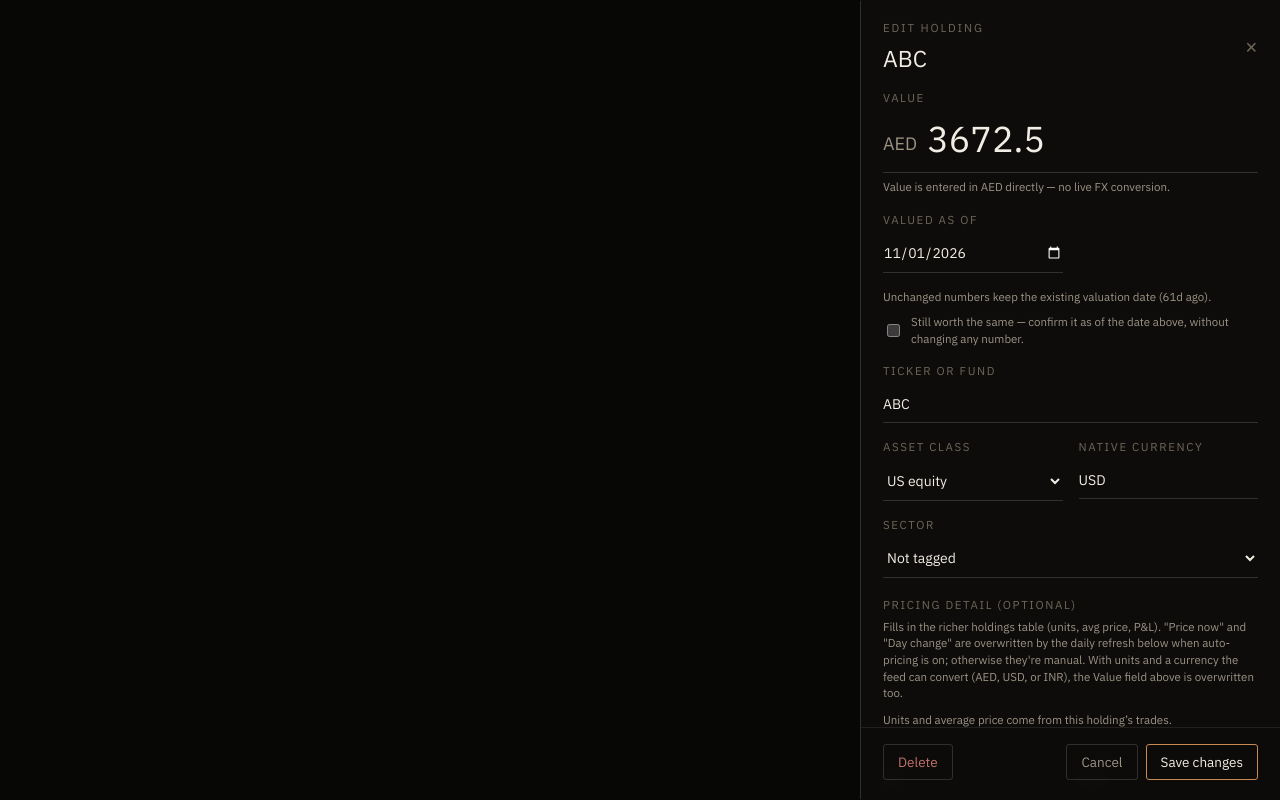
it: a traded holding › refuses a save from before a trade, writes nothing, and asks for fresh data
The width and height of the screenshot is (1280, 800).
Step 1. Replace the text in the field with placeholder "e.g. VWRA" below "Ticker or fund" with "ABC renamed" → (1070, 404), box [883,386,1258,423]
(page scrolled)
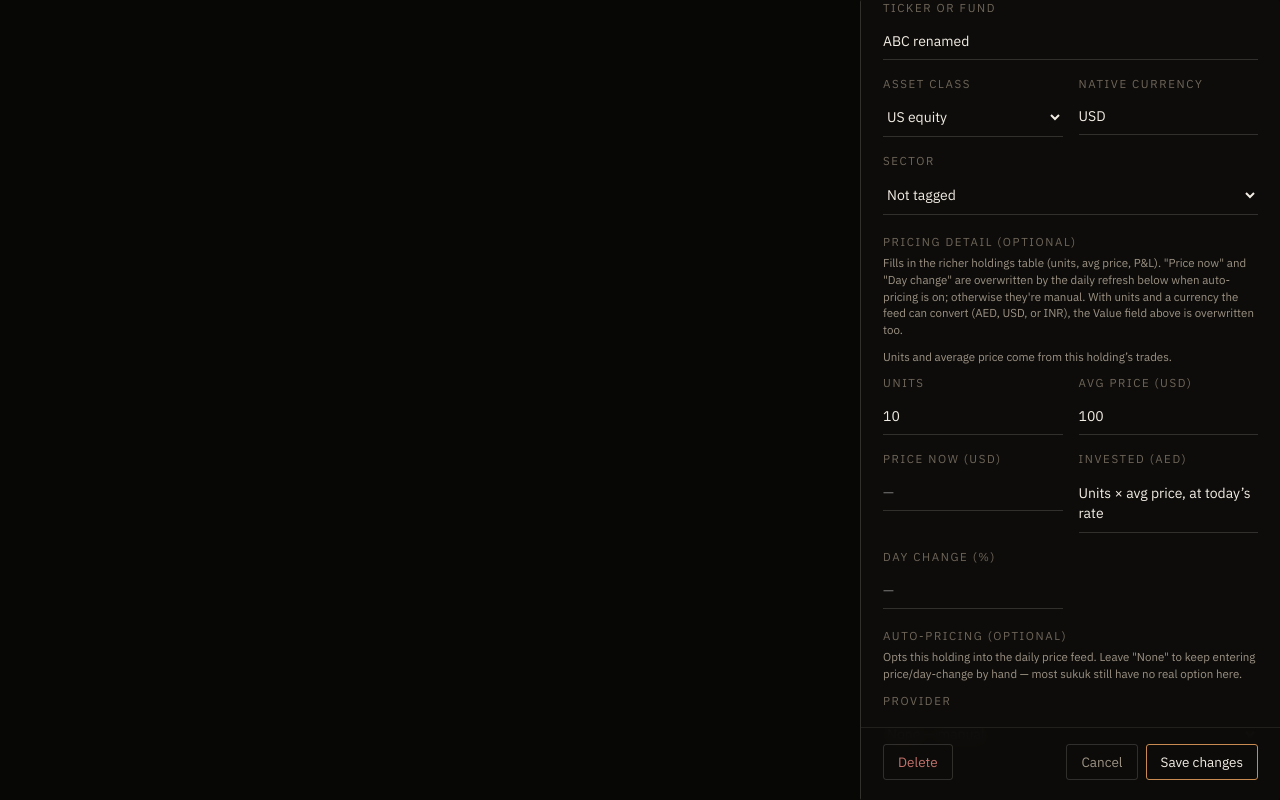
Step 2. Submit the form
(page scrolled)
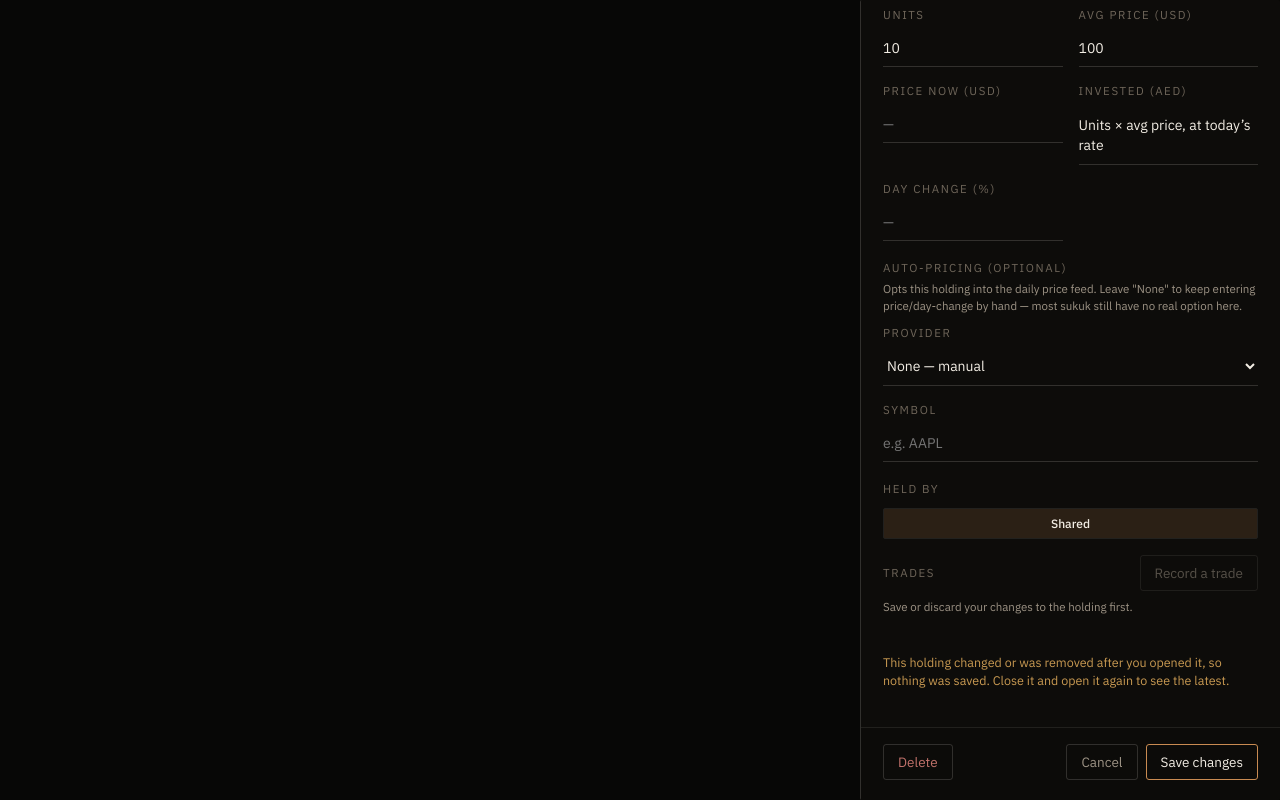
Result: the text "This holding changed or was removed after you opened it, so nothing was saved. Close it and open it again to see the lat" is shown at [883,654,1229,688]
